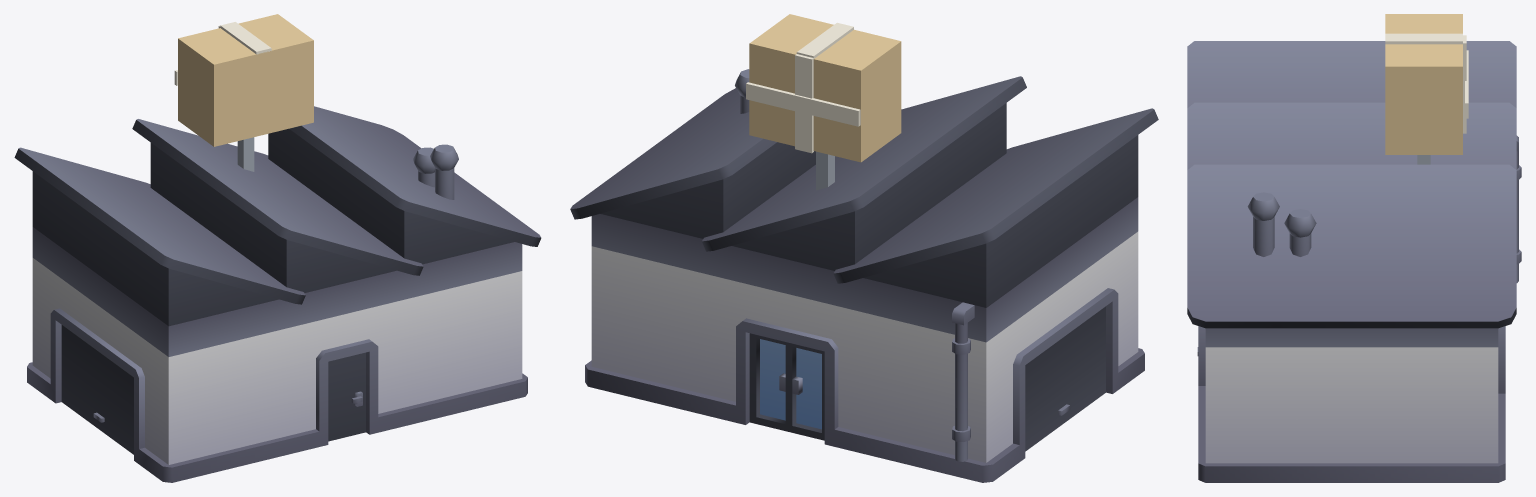
File: depot.glb
The picture shows the model from 3 angles, left to right: view 1: azimuth 30°, elevation 25°; view 2: azimuth 150°, elevation 25°; view 3: azimuth 270°, elevation 25°; orthographic projection. The views are drawn at different scales.
Visible parts, largest first — view 1: building-k, Project addition parcel sign, Project addition parcel top tape; view 2: building-k, Project addition parcel sign, Project addition parcel horizontal tape, Project addition parcel vertical tape, Project addition parcel top tape, Project addition parcel sign support; view 3: building-k, Project addition parcel sign, Project addition parcel top tape.
Part boxes in pixels (x1,y1,x2,y2): building-k: [14, 106, 541, 482]; Project addition parcel sign: [178, 14, 313, 146]; Project addition parcel top tape: [220, 22, 271, 54]; building-k: [570, 69, 1158, 482]; Project addition parcel sign: [749, 14, 901, 162]; Project addition parcel horizontal tape: [746, 82, 860, 126]; Project addition parcel vertical tape: [795, 54, 813, 153]; Project addition parcel top tape: [796, 22, 853, 58]; Project addition parcel sign support: [816, 151, 834, 190]; building-k: [1187, 41, 1521, 482]; Project addition parcel sign: [1385, 14, 1462, 154]; Project addition parcel top tape: [1385, 33, 1462, 44].
Size of the model in its own units: 4.3 by 3.49 by 3.01.
Materials: 5 (2 with a texture image).
